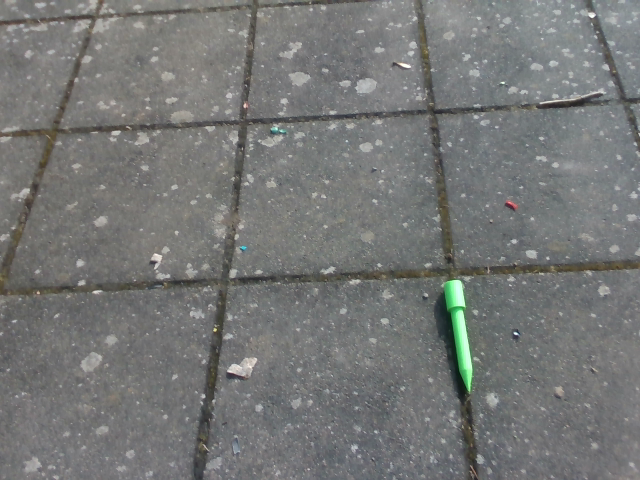Probe: (439, 275, 477, 399)
